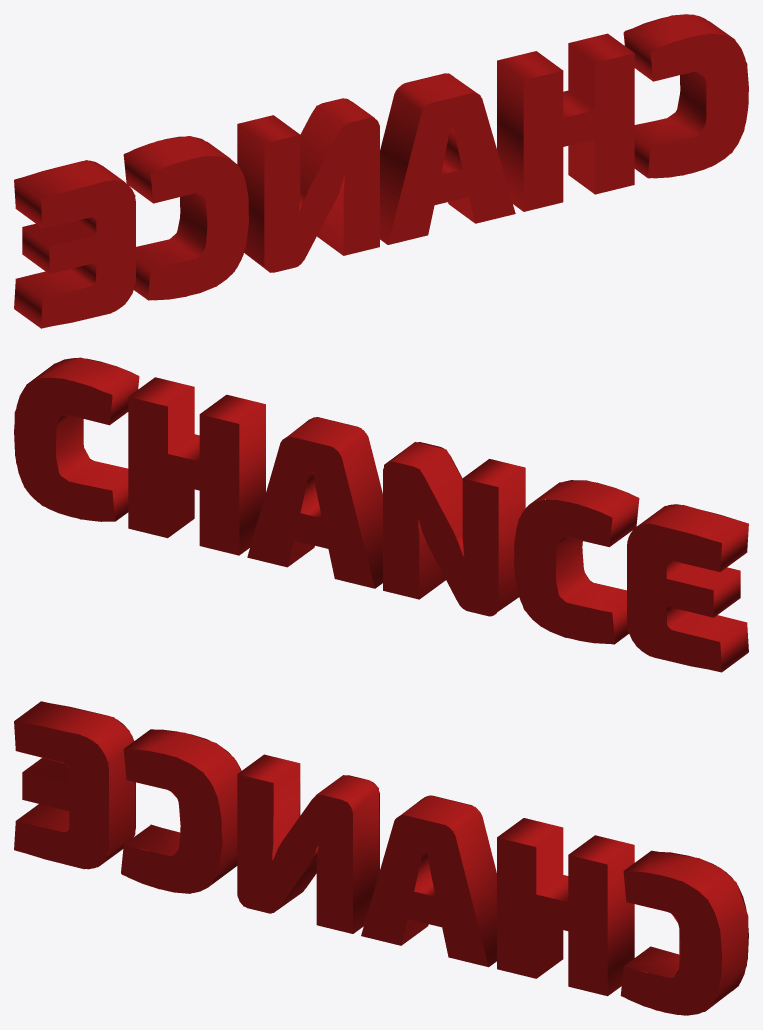
Rendered from chance.fbx.
3 views of the same model, one above another, from view 1: azimuth 30°, elevation 25°; view 2: azimuth 150°, elevation 25°; view 3: azimuth 330°, elevation 25° (orthographic).
Parts seen in each view (by area): view 1: Text; view 2: Text; view 3: Text.
Part boxes in pixels (x1,y1,x2,y2): Text: [14, 14, 748, 328]; Text: [14, 357, 748, 672]; Text: [14, 701, 748, 1015].
Size of the model in its own units: 12.16 by 2.24 by 0.8.
